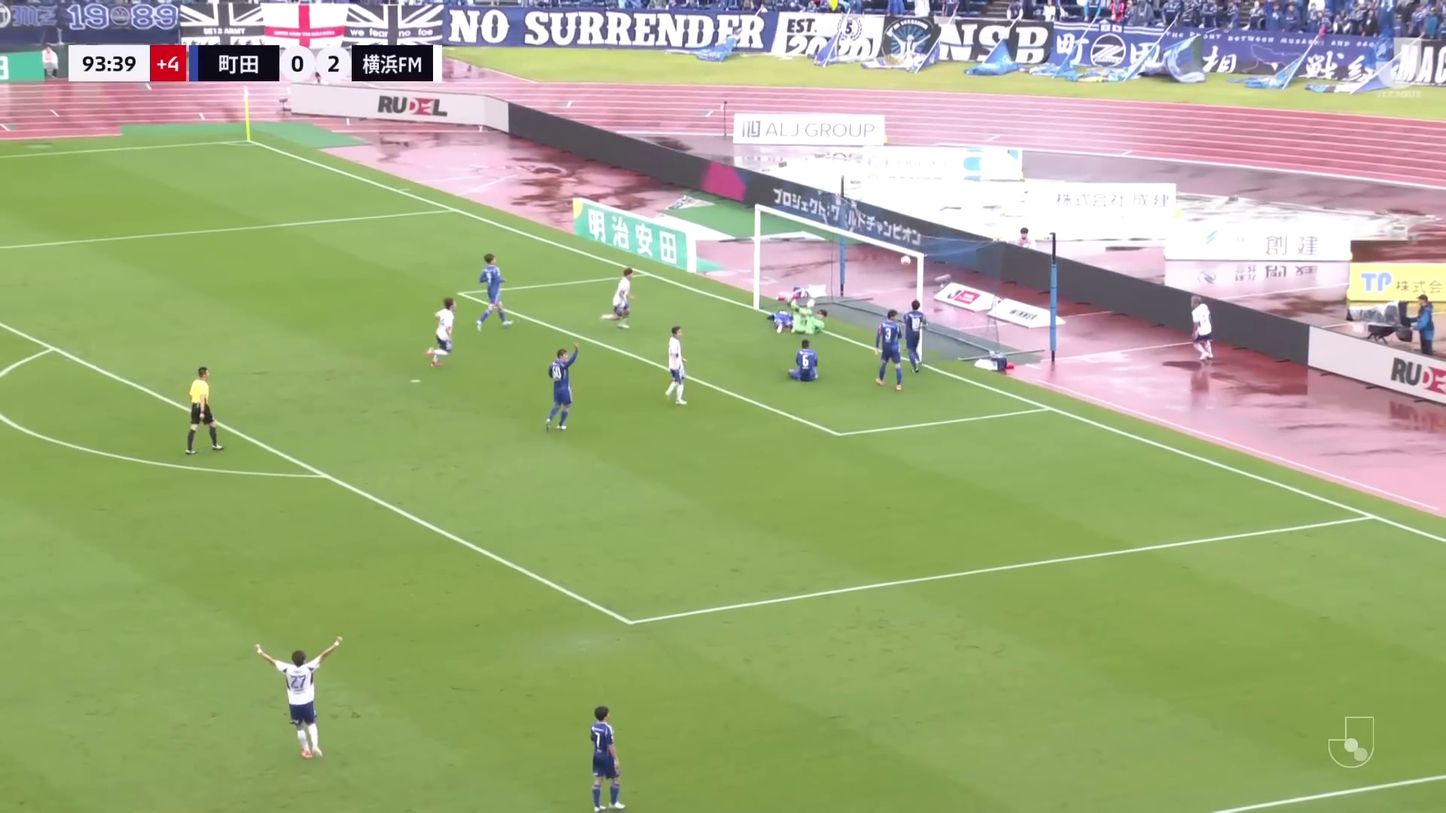ball: (895, 254, 914, 269)
player: (248, 639, 350, 764), (581, 704, 633, 812), (542, 345, 580, 432), (474, 252, 512, 332), (422, 296, 461, 369), (872, 310, 907, 391), (599, 266, 640, 331), (1180, 292, 1218, 360), (662, 324, 692, 406), (900, 298, 930, 377), (786, 338, 822, 384), (788, 300, 826, 337), (763, 305, 792, 336)
referee: (182, 365, 225, 456)
